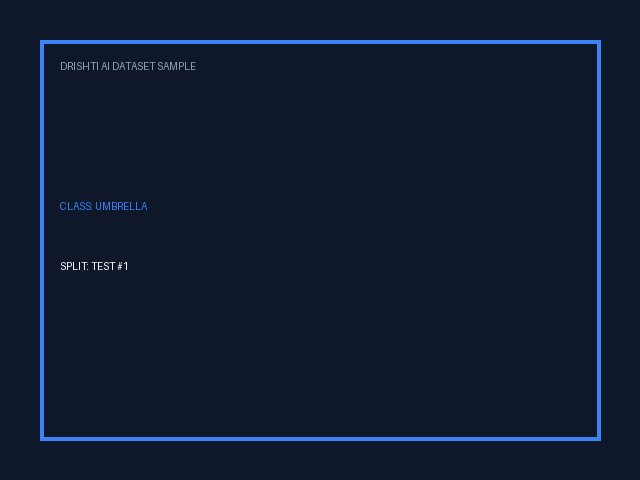umbrella: (180, 97, 435, 381)
